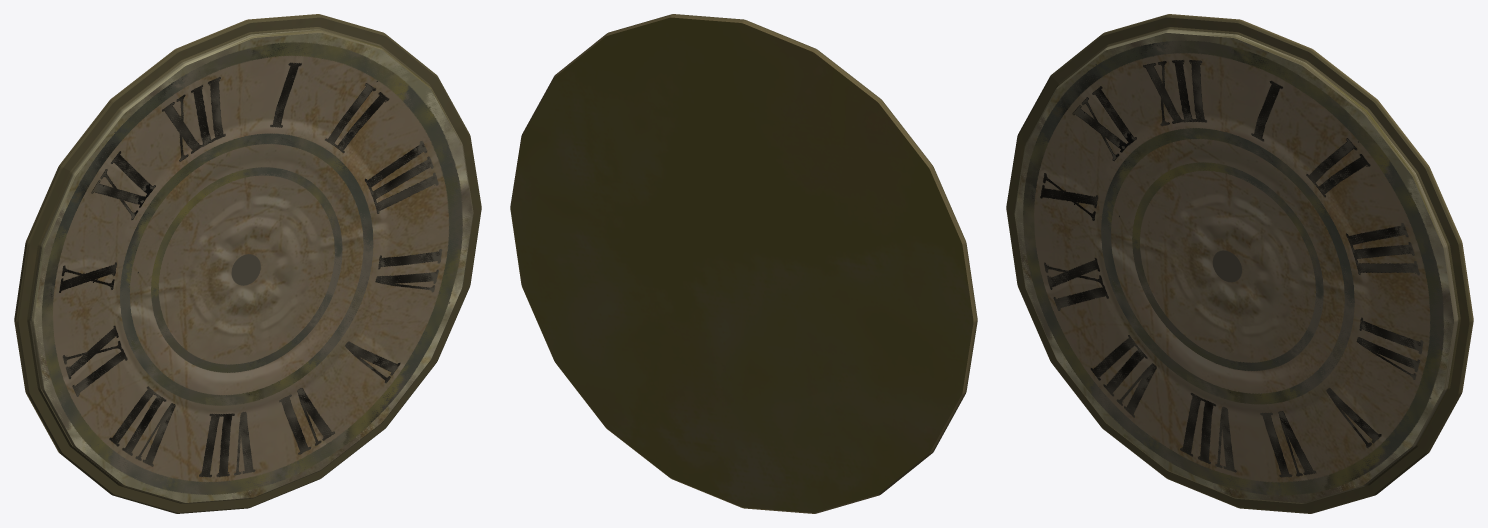
File: ClockFace.fbx
3 renders of one model, left to right at view 1: azimuth 30°, elevation 25°; view 2: azimuth 150°, elevation 25°; view 3: azimuth 330°, elevation 25°, orthographic.
Parts seen in each view (by area): view 1: pasted__pCylinder1; view 2: pasted__pCylinder1; view 3: pasted__pCylinder1.
Part boxes in pixels (left/top/right/bottom): pasted__pCylinder1: left=14, top=14, right=481, bottom=513; pasted__pCylinder1: left=510, top=14, right=977, bottom=513; pasted__pCylinder1: left=1006, top=14, right=1473, bottom=513.
Bounding box in the file's own units: 64.16 × 64.16 × 1.71.
Materials: 1 (1 with a texture image).
